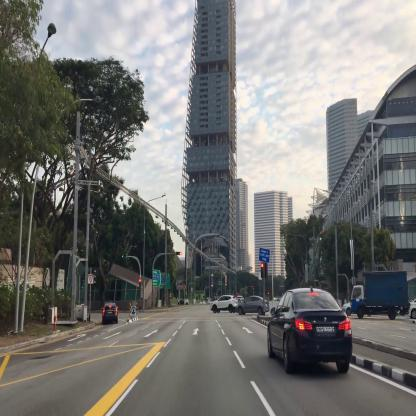red_traffic_light: (260, 262, 264, 278), (139, 279, 141, 288), (176, 251, 181, 254)
